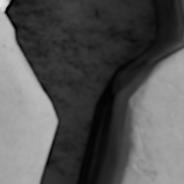broken_brick: (0, 5, 53, 183), (115, 51, 183, 183)
crack: (1, 0, 183, 183)
